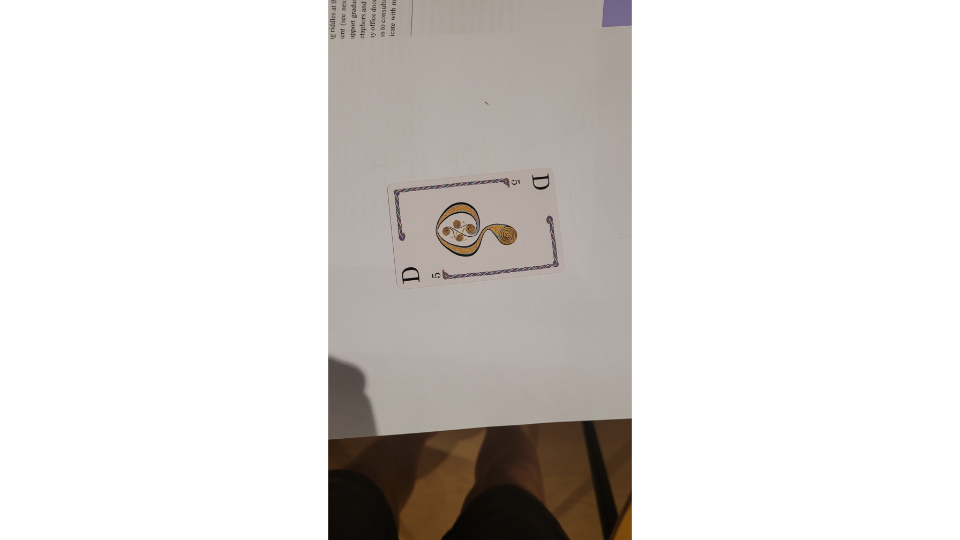D: (384, 165, 570, 289)
